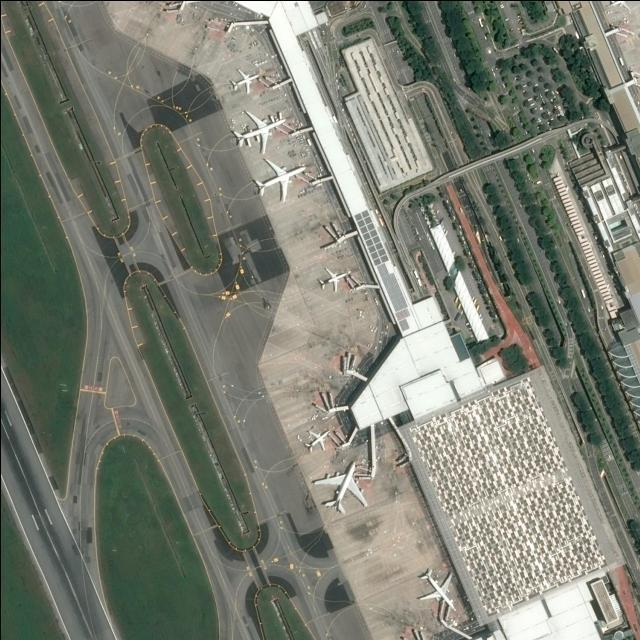Aircraft: (310, 461, 366, 514), (230, 111, 284, 155), (252, 159, 305, 202), (416, 569, 453, 609), (318, 267, 348, 292), (229, 69, 257, 95), (303, 428, 329, 452), (609, 0, 636, 10)
